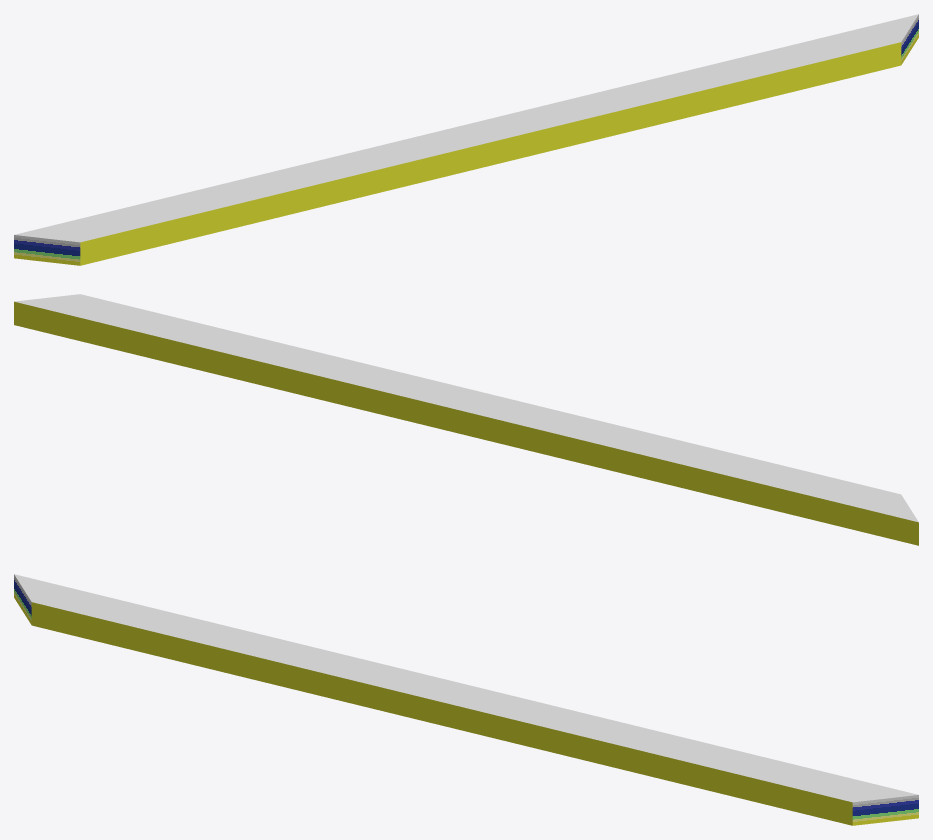
The model's file is TOWER_FLOOR0_colliders_010.fbx.
3 views of the same model, one above another, from view 1: azimuth 30°, elevation 25°; view 2: azimuth 150°, elevation 25°; view 3: azimuth 330°, elevation 25° (orthographic).
Parts seen in each view (by area): view 1: TOWER_FLOOR0_colliders.010; view 2: TOWER_FLOOR0_colliders.010; view 3: TOWER_FLOOR0_colliders.010.
Part boxes in pixels (x1,y1,x2,y2): TOWER_FLOOR0_colliders.010: (14,14,918,265); TOWER_FLOOR0_colliders.010: (14,294,918,545); TOWER_FLOOR0_colliders.010: (14,574,918,825).
Bounding box in the file's own units: 88.43 × 2.19 × 4.1.
